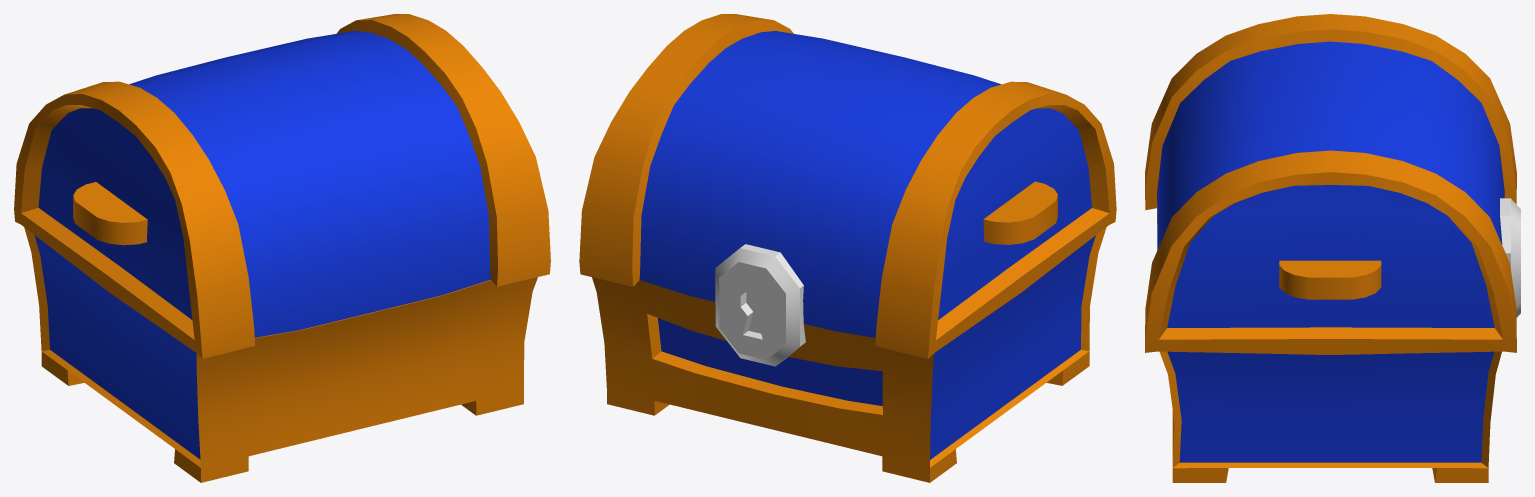
File: Case.fbx
The picture shows the model from 3 angles, left to right: view 1: azimuth 30°, elevation 25°; view 2: azimuth 150°, elevation 25°; view 3: azimuth 270°, elevation 25°; orthographic projection.
Parts seen in each view (by area): view 1: Cube.001, Cube; view 2: Cube.001, Cube; view 3: Cube.001, Cube.
Part boxes in pixels (x1,y1,x2,y2): Cube.001: (14,14,550,358); Cube: (24,227,537,482); Cube.001: (579,14,1116,366); Cube: (592,227,1106,482); Cube.001: (1145,14,1520,354); Cube: (1157,208,1501,482).
Size of the model in its own units: 101 by 78.54 by 84.95.
